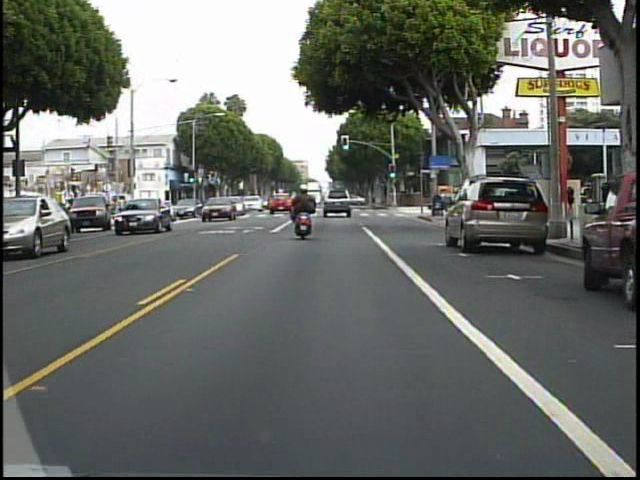person: (289, 183, 323, 239)
